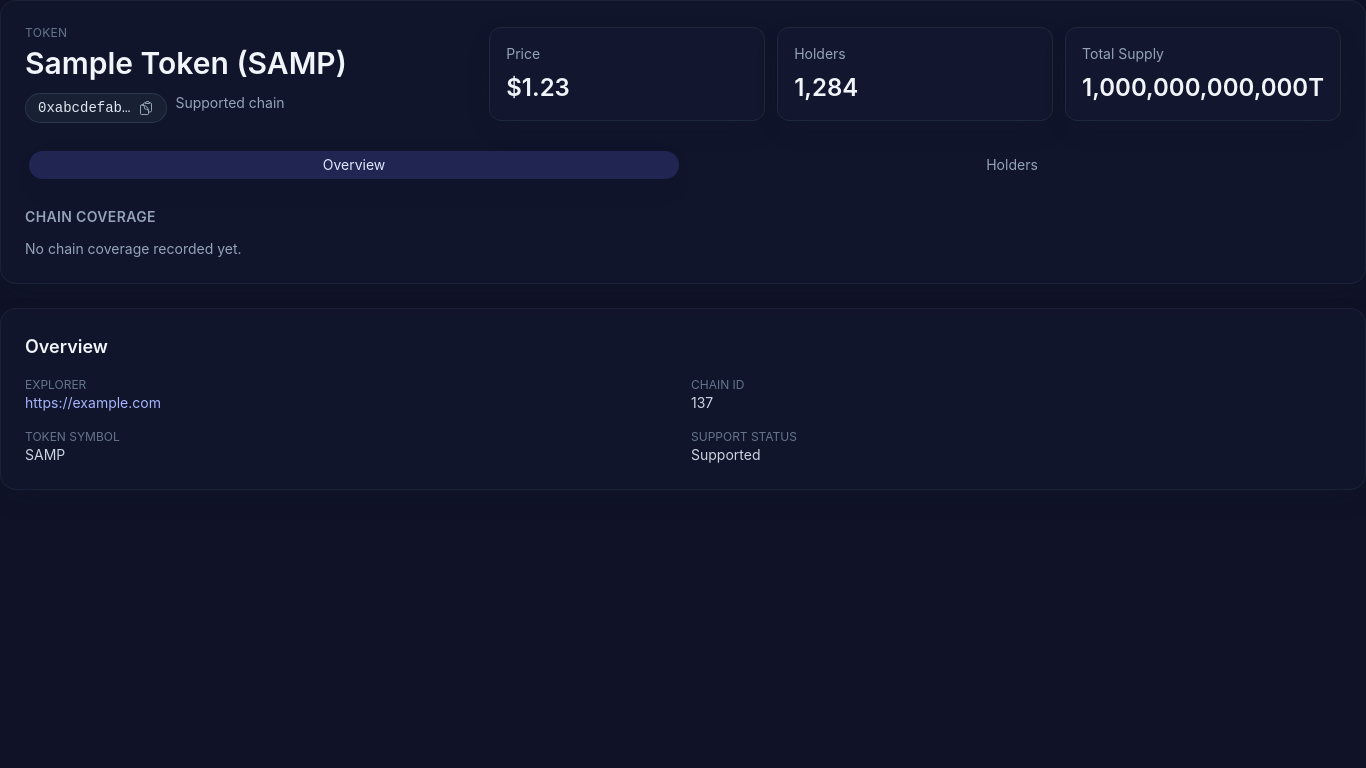
Scenario: TokenPage › requests holders using query chain id
Click the tab "Holders" at (1012, 165), box [687, 151, 1337, 179]
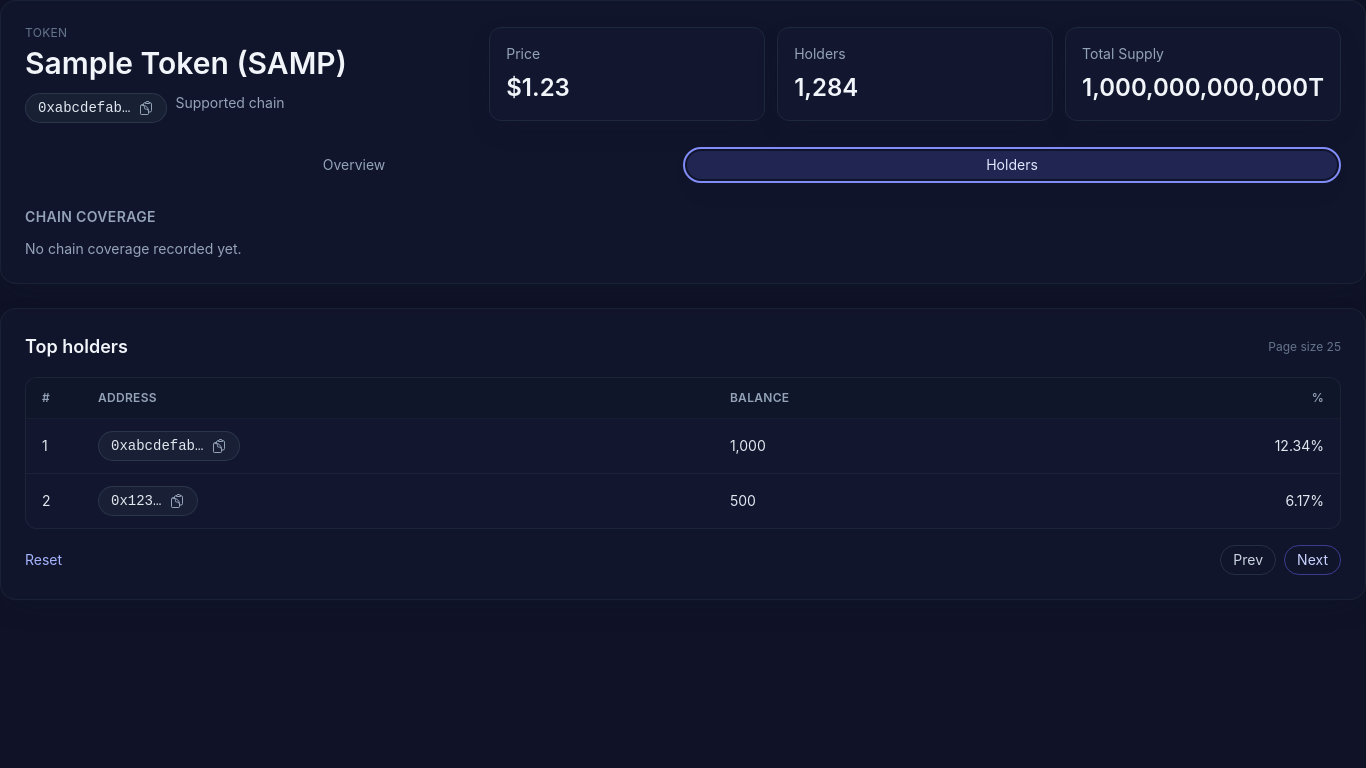
Check: the heading "Top holders" is shown, box [25, 333, 128, 361]
Check: the text "Page size 25" is shown, box [1268, 339, 1341, 355]
